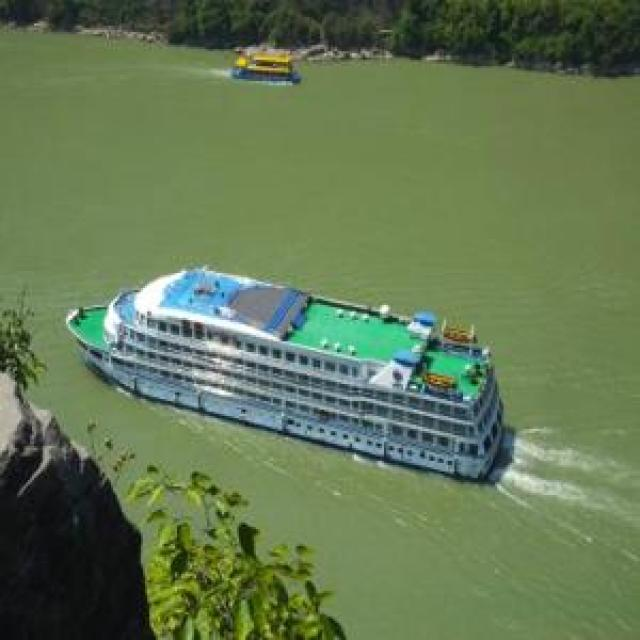houseboat: (227, 51, 303, 88)
passenger ship: (61, 264, 510, 475)
